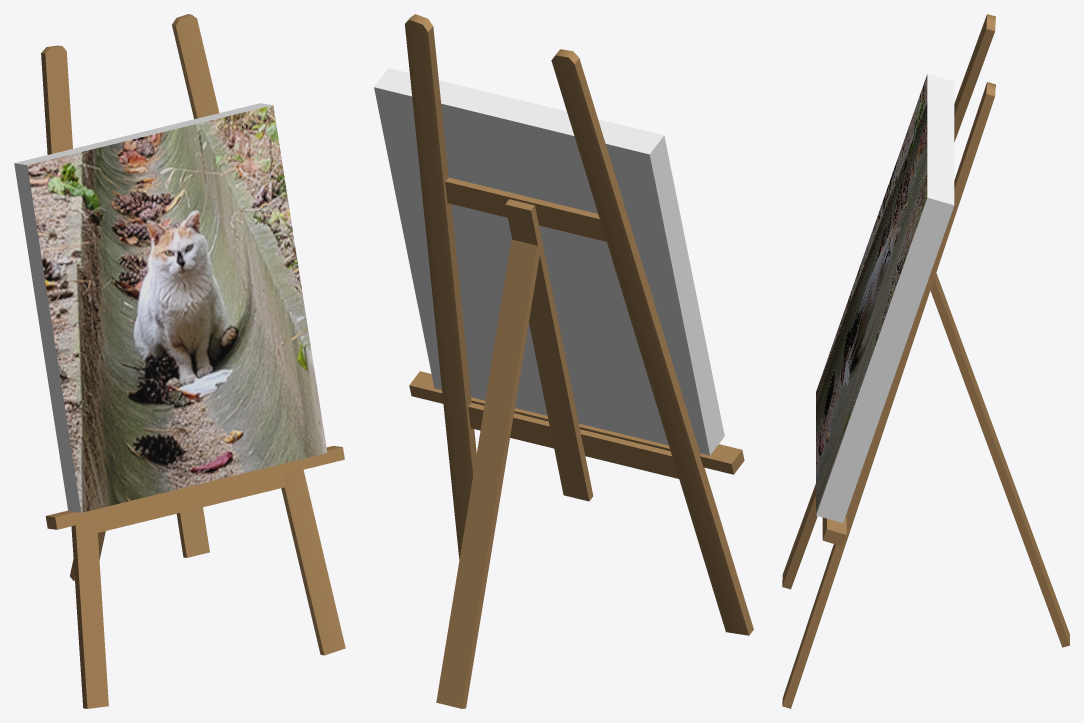
The model's file is ajoumeo_3.fbx.
3 views of the same model, side by side, from view 1: azimuth 30°, elevation 25°; view 2: azimuth 150°, elevation 25°; view 3: azimuth 270°, elevation 25° (orthographic). The views are drawn at different scales.
Visible parts, largest first — view 1: ajoumeo_03; view 2: ajoumeo_03; view 3: ajoumeo_03.
Part boxes in pixels (bbox=[...]): ajoumeo_03: bbox=[14, 14, 345, 708]; ajoumeo_03: bbox=[374, 14, 753, 708]; ajoumeo_03: bbox=[782, 14, 1069, 708].
Size of the model in its own units: 0.0762 by 0.1469 by 0.064.
1 material, 1 textured.
